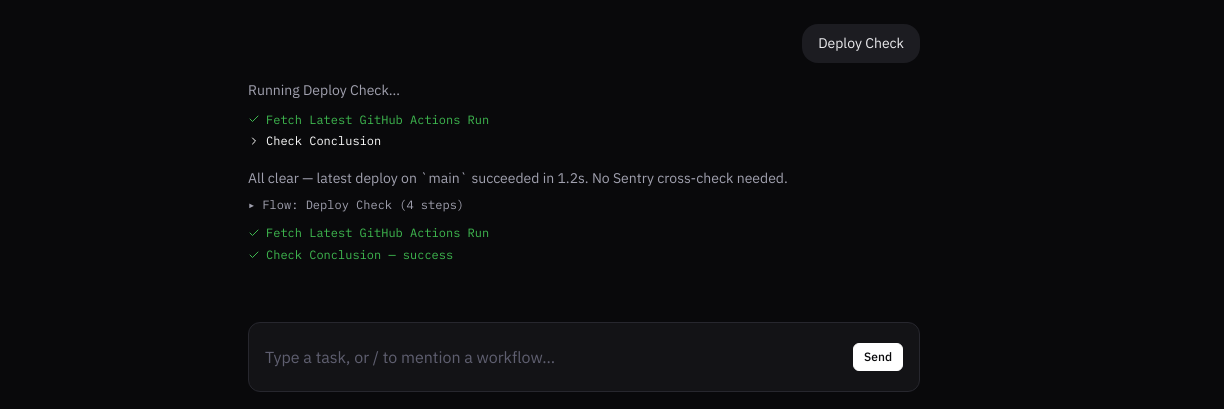
Test: renders a clickable flow line that opens the inspector for a workflow-linked task
This screenshot has width=1224, height=409.
Step 1. Click the button "▸ Flow: Deploy Check (4 steps)" → {"x": 356, "y": 205}, box [248, 197, 464, 213]
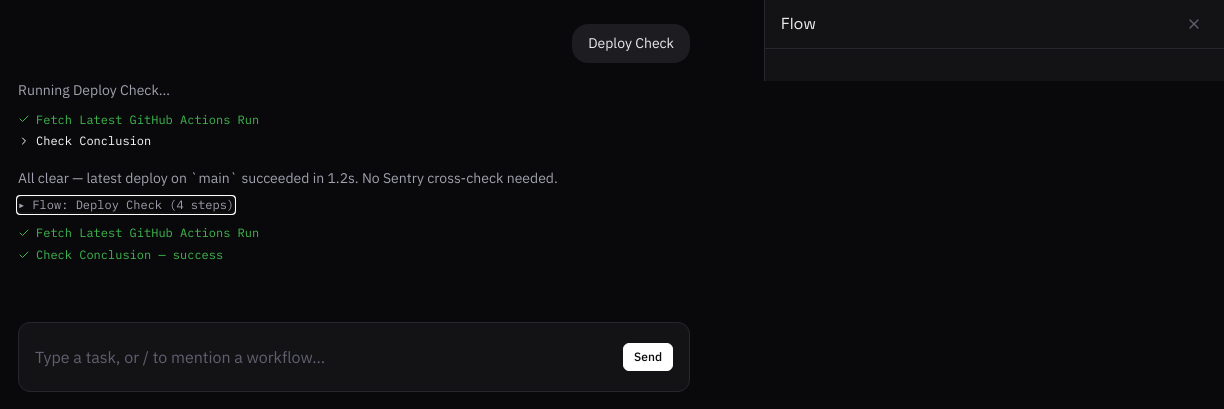
Now the button named "Close flow inspector" is shown, box [1180, 12, 1208, 36]
Now the element named "Flow inspector" is shown, box [764, 0, 1223, 81]
